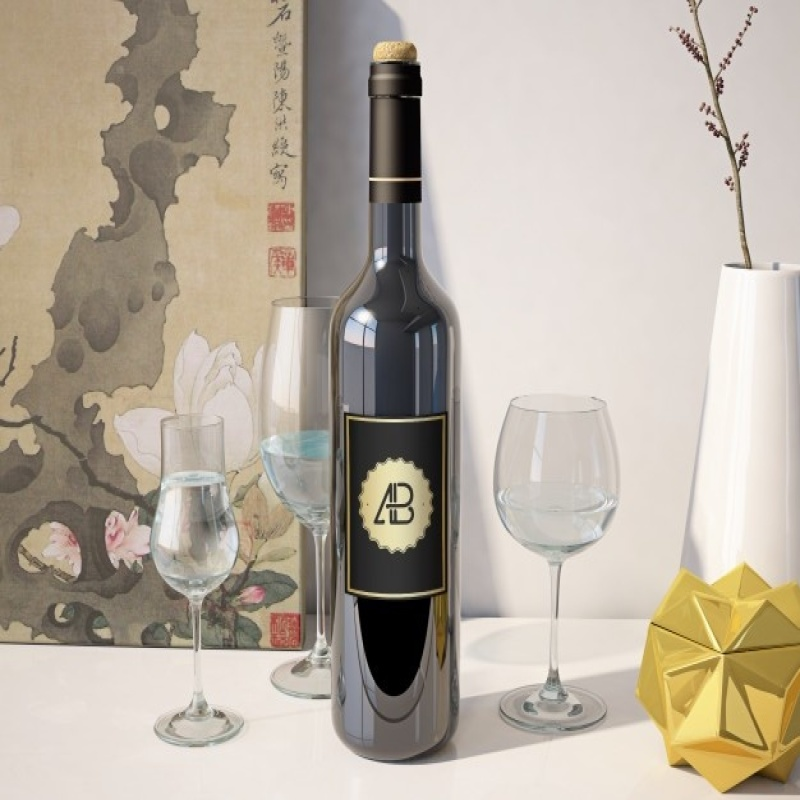wine: (334, 49, 464, 763)
